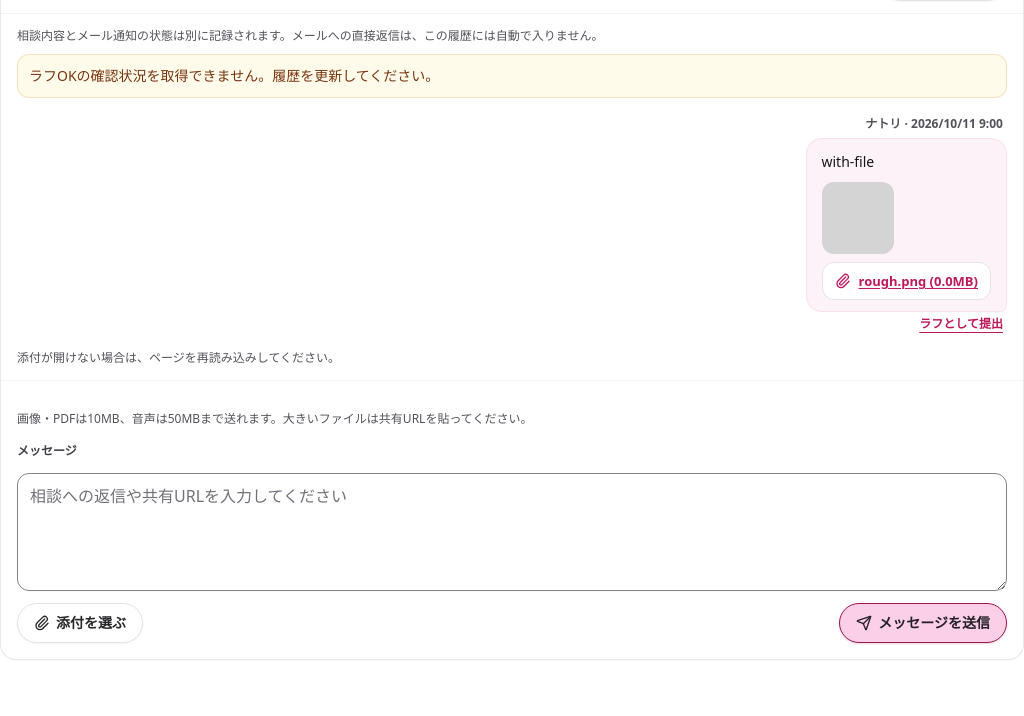
marking a rough in the staff thread › posts the mark with the project and message and then shows the rough waiting for the client's OK
Click the button "ラフとして提出". click: click(961, 324)
box: [915,316,1007,332]
(page scrolled)
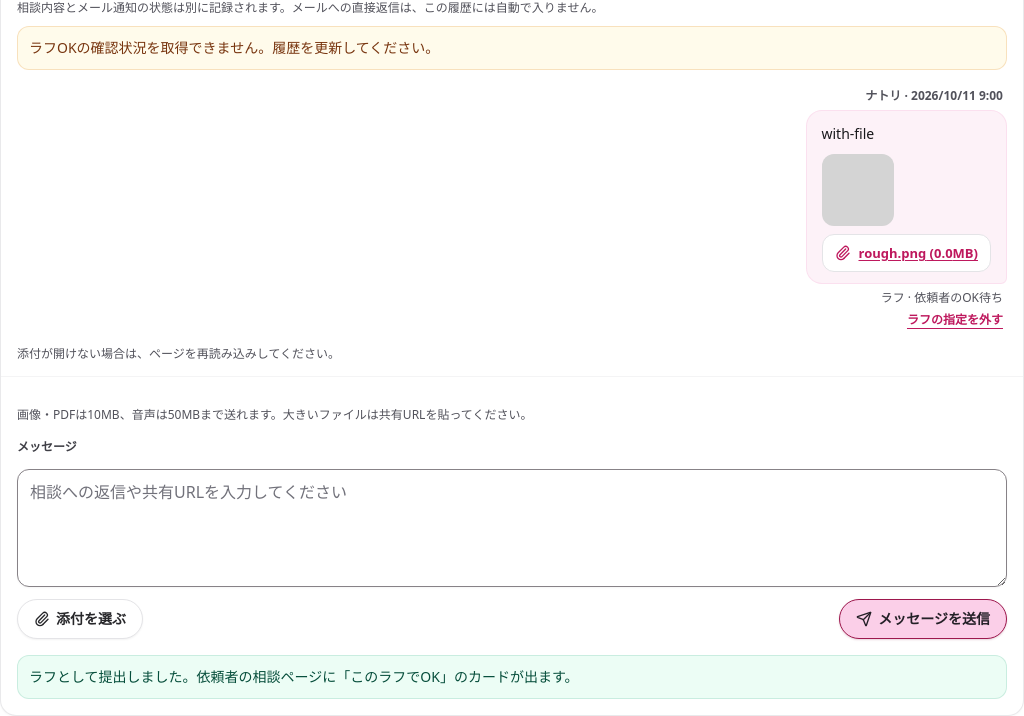
Expected: the text "ラフ · 依頼者のOK待ち" is shown, [877,288,1007,308]
Expected: the button "ラフの指定を外す" is shown, [903,312,1007,328]
Expected: the text "ラフとして提出しました。依頼者の相談ページに「このラフでOK」のカードが出ます。" is shown, [17,655,1007,699]
